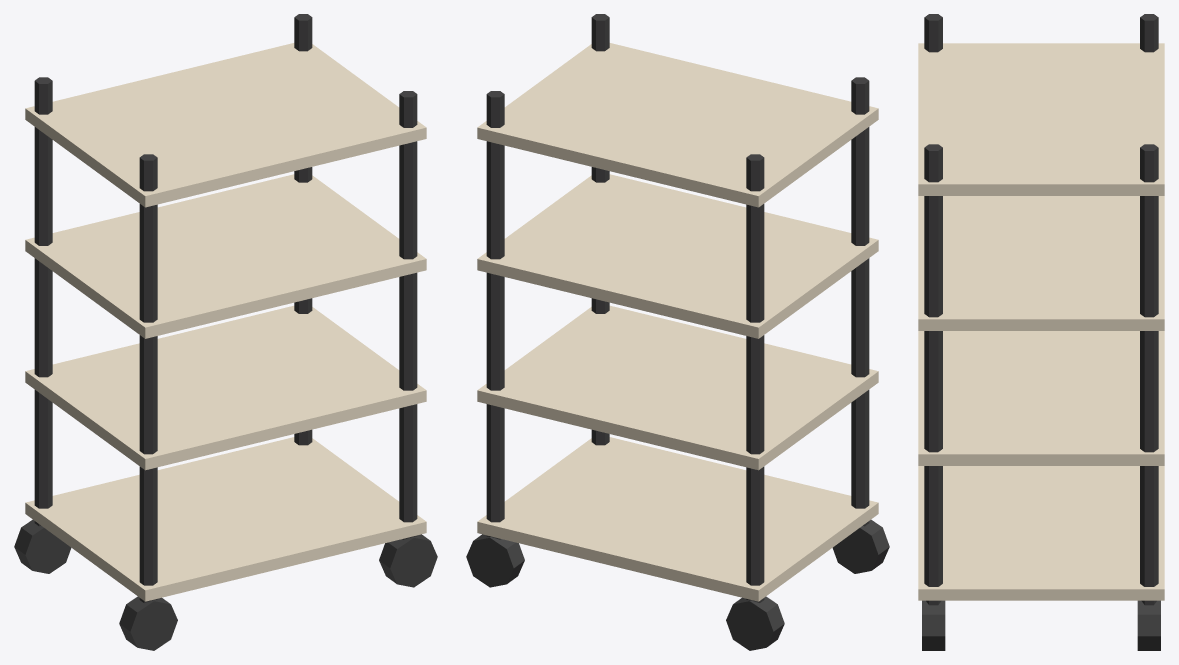
3 renders of one model, left to right at view 1: azimuth 30°, elevation 25°; view 2: azimuth 150°, elevation 25°; view 3: azimuth 270°, elevation 25°, orthographic. The views are drawn at different scales.
Parts seen in each view (by area): view 1: Rack shelf.003, Rack shelf.002, Rack shelf, Rack shelf.001, Post, Post.002, Post.001, Wheel, Wheel.002, Wheel.001, Post.003; view 2: Rack shelf.003, Rack shelf.002, Rack shelf, Rack shelf.001, Post.001, Post.003, Post, Wheel.001, Wheel.003, Wheel, Post.002; view 3: Rack shelf.003, Rack shelf, Rack shelf.001, Rack shelf.002, Post.002, Post.003, Wheel.002, Wheel.003, Post, Post.001.
Part boxes in pixels (x1,y1,x2,y2): Rack shelf.003: (25, 43, 426, 207); Rack shelf.002: (25, 174, 426, 338); Rack shelf: (25, 437, 426, 601); Rack shelf.001: (25, 305, 426, 470); Post: (139, 154, 157, 602); Post.002: (399, 91, 417, 539); Post.001: (34, 77, 52, 526); Wheel: (119, 596, 177, 650); Wheel.002: (379, 534, 437, 587); Wheel.001: (14, 519, 71, 573); Post.003: (294, 14, 312, 445); Rack shelf.003: (477, 43, 878, 207); Rack shelf.002: (477, 174, 878, 338); Rack shelf: (477, 437, 878, 601); Rack shelf.001: (477, 305, 878, 470); Post.001: (746, 154, 764, 602); Post.003: (486, 91, 504, 539); Post: (851, 77, 869, 526); Wheel.001: (726, 596, 784, 650); Wheel.003: (466, 534, 524, 587); Wheel: (832, 519, 889, 573); Post.002: (591, 14, 609, 445); Rack shelf.003: (918, 43, 1164, 195); Rack shelf: (918, 466, 1164, 600); Rack shelf.001: (918, 331, 1164, 465); Rack shelf.002: (918, 196, 1164, 330); Post.002: (924, 144, 942, 605); Post.003: (1140, 144, 1158, 605); Wheel.002: (922, 600, 945, 650); Wheel.003: (1137, 600, 1160, 650); Post: (924, 14, 942, 52); Post.001: (1140, 14, 1158, 52).
Size of the model in its own units: 71 by 108 by 48.
